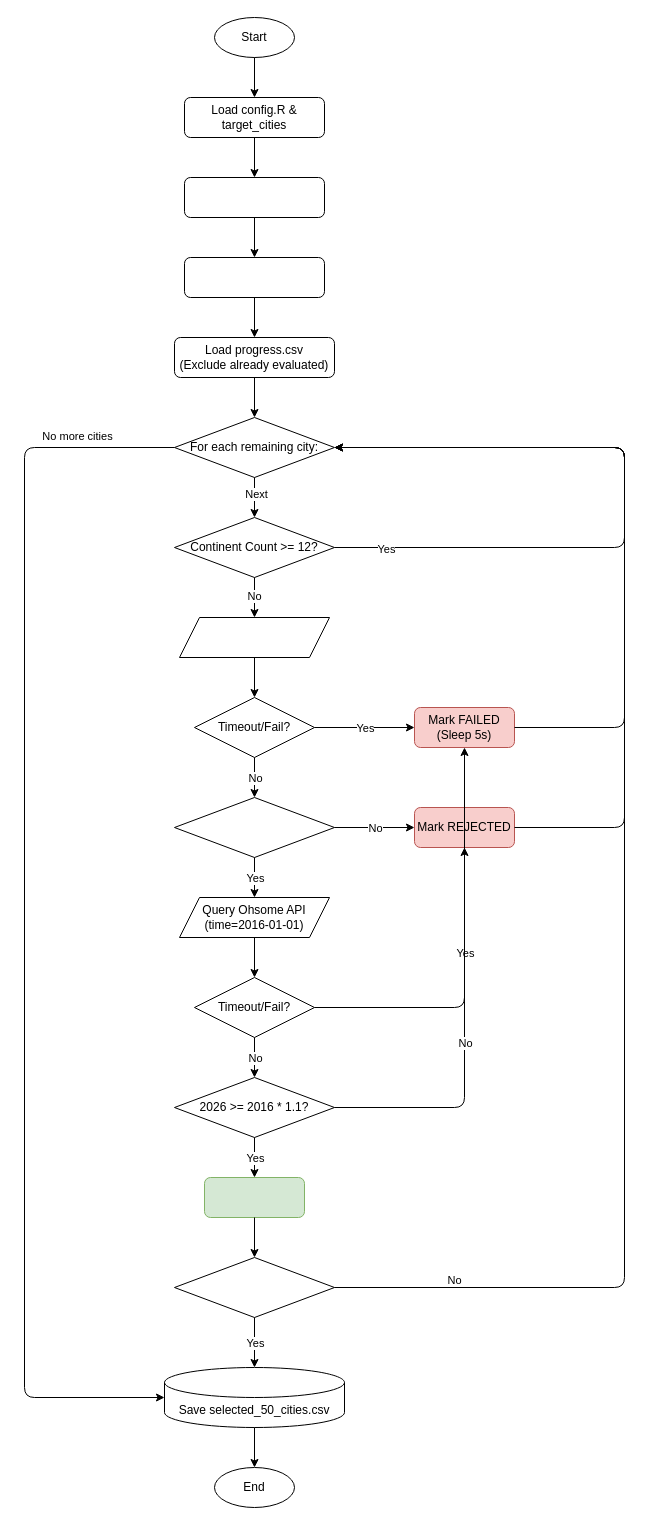
Some shapes in this 650 by 1525 pixel diagram are drawn without their labels. The shapes that lost their labels are listed below. From the top down, each one's centre as x and y in pixels, then its label:
(x=254, y=197): Load city_list.txt
(x=254, y=277): Exclude existing target_cities
(x=254, y=637): Query Ohsome API (time=2026-01-01)
(x=254, y=827): Length 2026 >= 100km?
(x=254, y=1197): Mark ACCEPTED
(x=254, y=1287): Selected Cities == 50?
